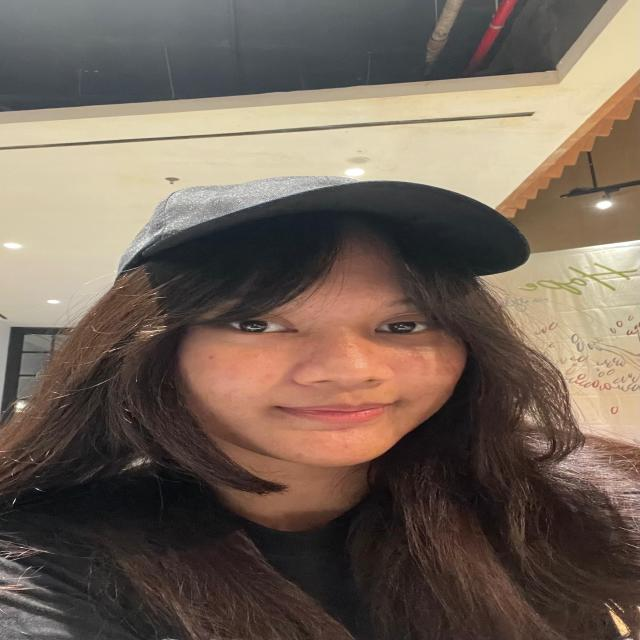3_gorra: (118, 168, 533, 333)
